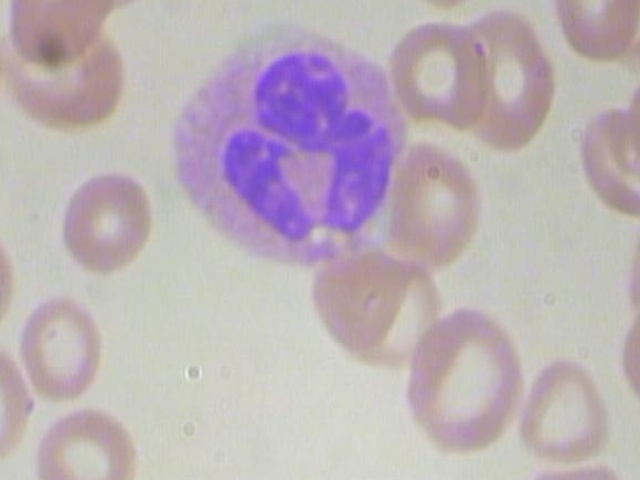RBC: (392, 304, 530, 458), (450, 5, 559, 159), (376, 134, 485, 274), (381, 16, 495, 132), (512, 349, 615, 469), (51, 164, 159, 277), (307, 239, 415, 351), (15, 287, 111, 403), (23, 404, 143, 480), (554, 0, 640, 69), (0, 340, 35, 473), (0, 220, 30, 339), (509, 456, 636, 480)
WBC: (156, 7, 426, 298)
